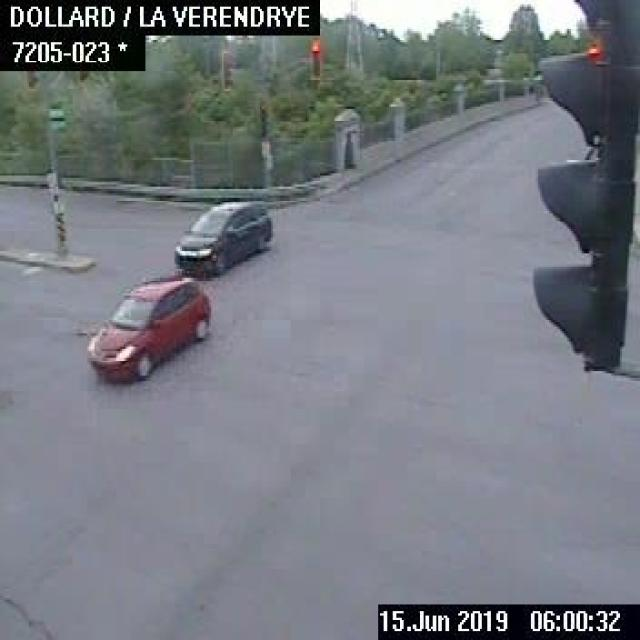vehicle: (82, 267, 211, 380), (172, 194, 273, 276)
